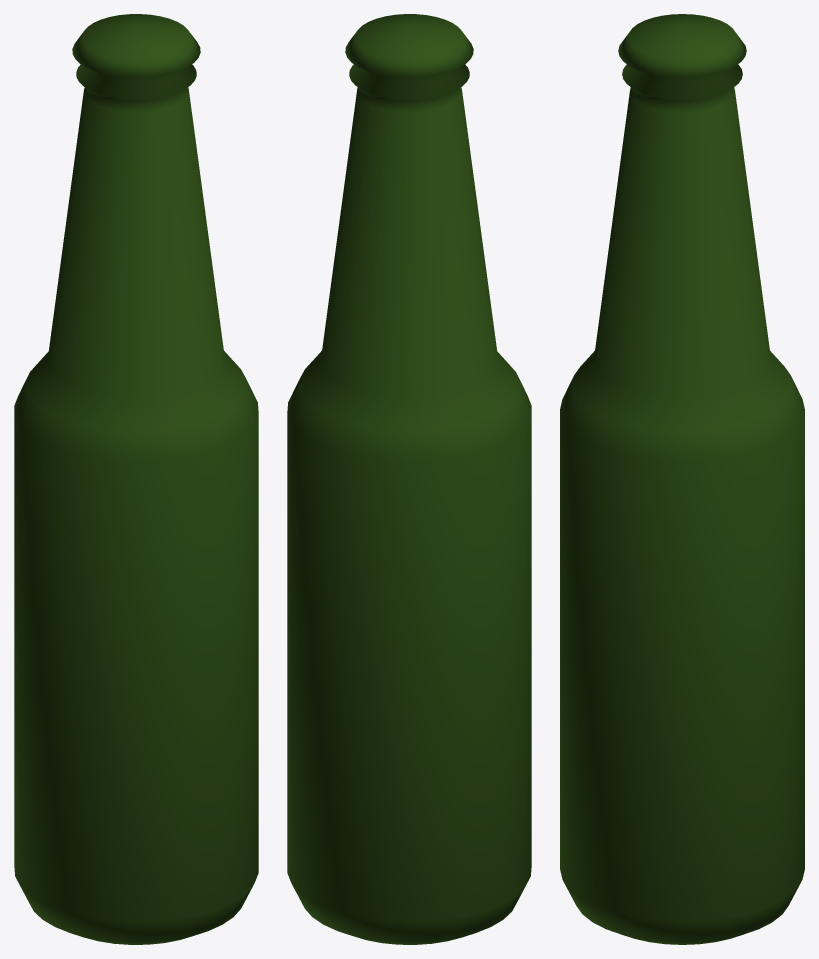
The model's file is Bier.fbx.
3 views of the same model, side by side, from view 1: azimuth 30°, elevation 25°; view 2: azimuth 150°, elevation 25°; view 3: azimuth 270°, elevation 25° (orthographic).
Visible parts, largest first — view 1: Cylinder; view 2: Cylinder; view 3: Cylinder.
Part boxes in pixels (x1,y1,x2,y2): Cylinder: (14,14,258,944); Cylinder: (287,14,531,944); Cylinder: (560,14,804,944).
Bounding box in the file's own units: 132 × 524 × 132.
